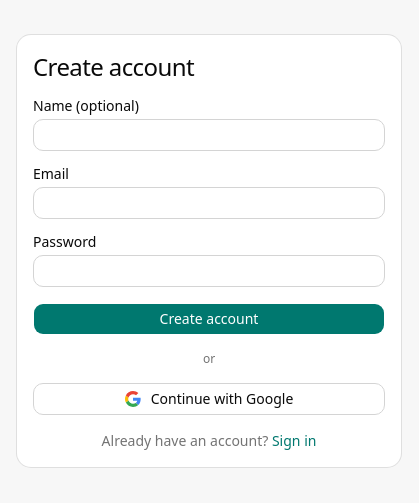
RegisterForm › shows a password length error after blurring a short password
The width and height of the screenshot is (419, 503).
Type "short" into the password field labelled "Password". click: (209, 271)
box: [33,255,385,287]
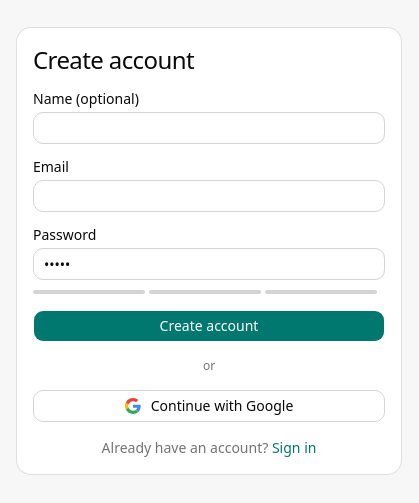
Leave the password field labelled "Password", box [33,248,385,280]
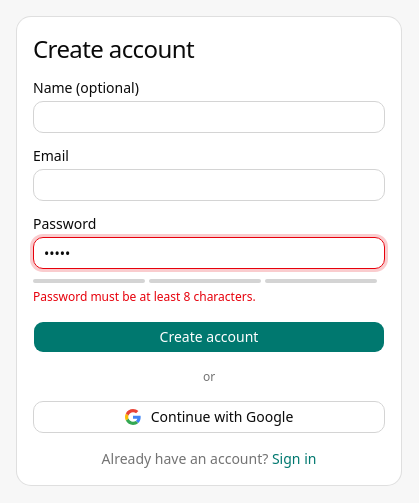
expect the text "Password must be at least 8 characters." is shown: met, box [33,288,256,305]
